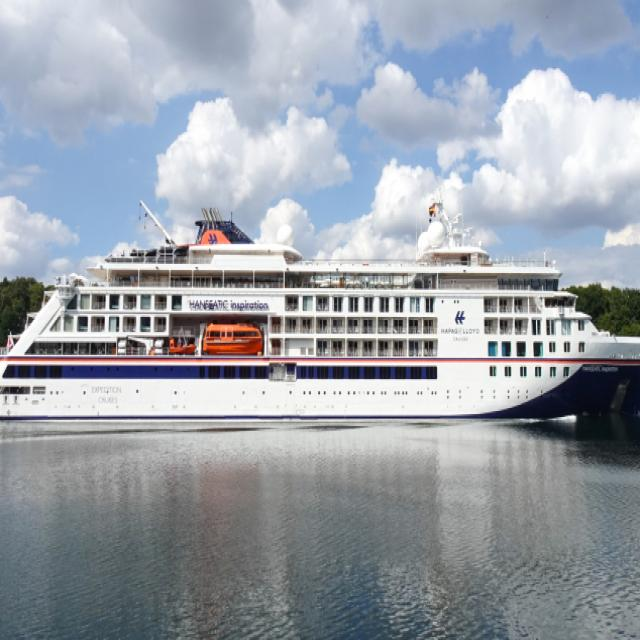cruises: (1, 198, 640, 435)
